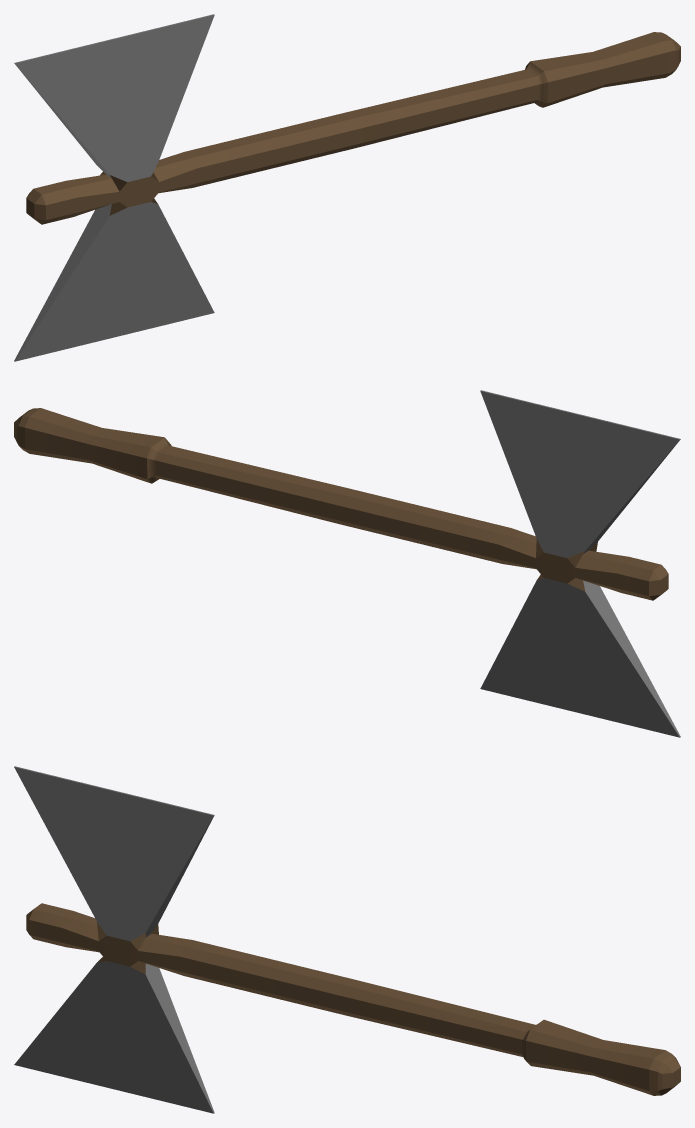
The model's file is Weapon_Axe.fbx.
The picture shows the model from 3 angles, top to bottom: view 1: azimuth 30°, elevation 25°; view 2: azimuth 150°, elevation 25°; view 3: azimuth 330°, elevation 25°; orthographic projection.
Parts seen in each view (by area): view 1: axe; view 2: axe; view 3: axe.
Boxes of the visible parts, <box> form: axe: <box>14,14,680,361</box>; axe: <box>14,390,680,737</box>; axe: <box>14,766,680,1113</box>.
Size of the model in its own units: 21.54 by 9.26 by 1.25.
